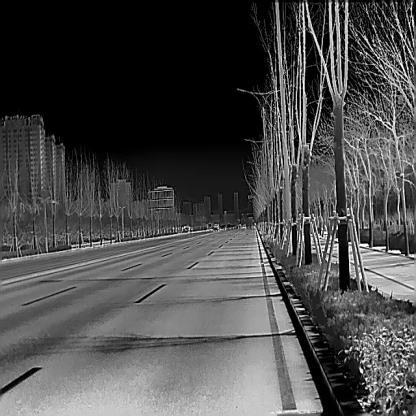car: (213, 223, 219, 231), (220, 224, 226, 230), (241, 224, 246, 229), (226, 224, 230, 229)
